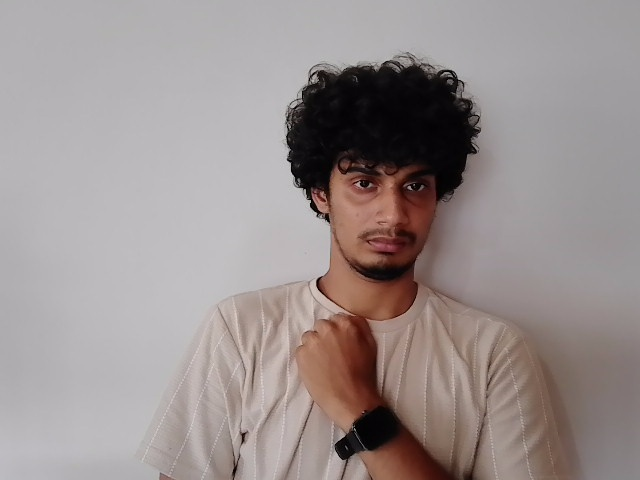sorry: (137, 287, 389, 440)
